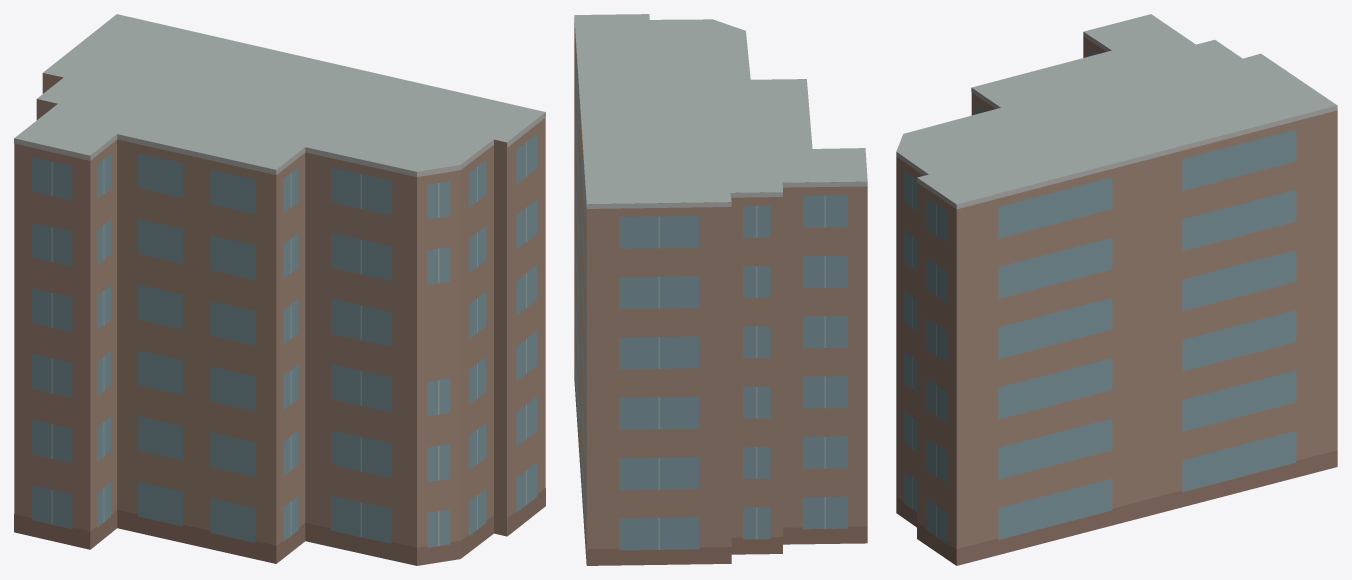
Rendered from survey-upis-32555229.glb.
The picture shows the model from 3 angles, left to right: view 1: azimuth 30°, elevation 25°; view 2: azimuth 150°, elevation 25°; view 3: azimuth 270°, elevation 25°; orthographic projection. The views are drawn at different scales.
Parts seen in each view (by area): view 1: survey-upis-32555229.tmp; view 2: survey-upis-32555229.tmp; view 3: survey-upis-32555229.tmp.
Part boxes in pixels (x1,y1,x2,y2): survey-upis-32555229.tmp: (14, 14, 545, 565); survey-upis-32555229.tmp: (574, 14, 867, 565); survey-upis-32555229.tmp: (896, 14, 1337, 565).
Bounding box in the file's own units: 20.7 × 18.3 × 20.27.
